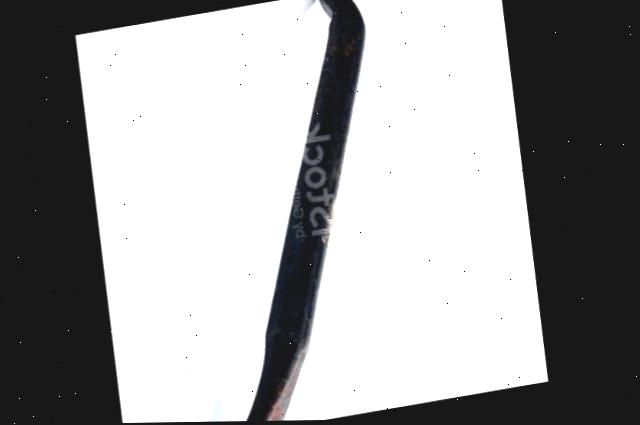crow bar: (242, 0, 375, 422)
